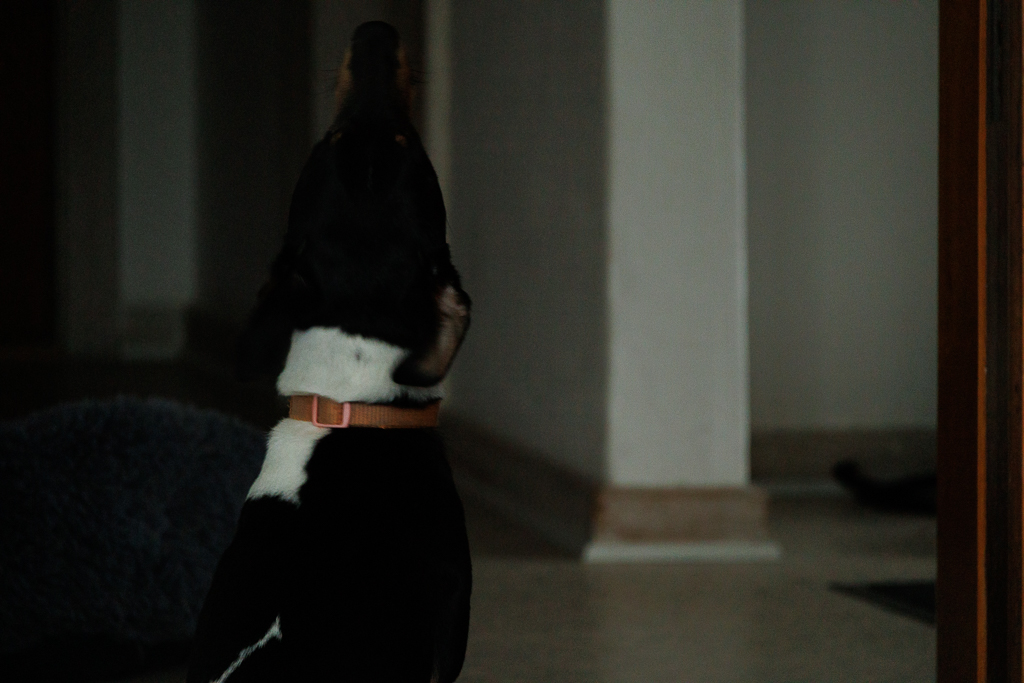Dog: (155, 14, 487, 683)
